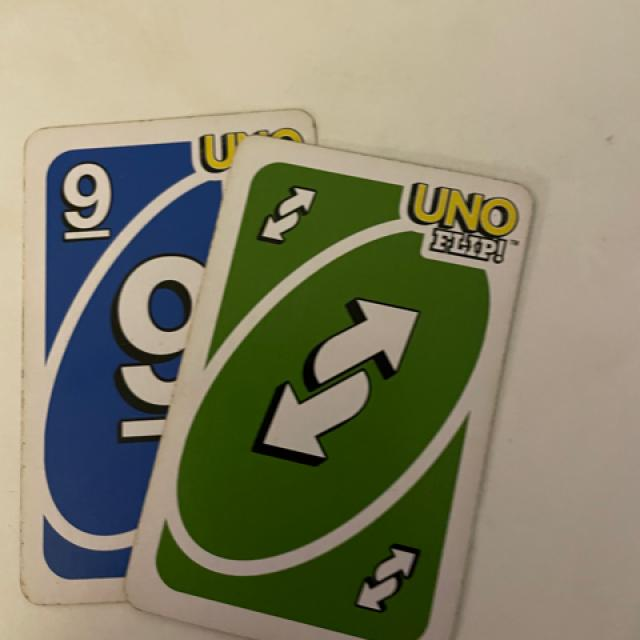lblue-9: (35, 142, 142, 255)
lgreenrevers-20: (242, 163, 330, 272)
